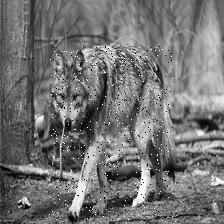WOLF: (49, 47, 173, 224)
